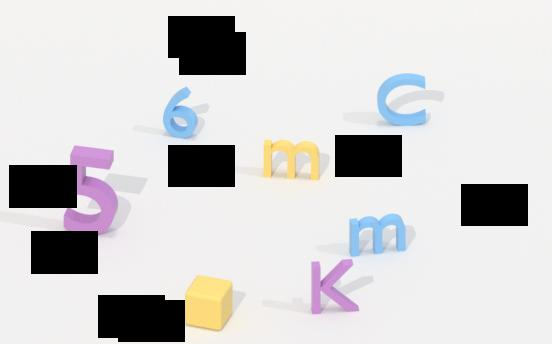5: (59, 146, 121, 239)
6: (160, 86, 204, 141)
c: (371, 73, 433, 126)
hop: (181, 273, 238, 333)
k: (309, 256, 361, 318)
m: (259, 137, 324, 184), (344, 213, 411, 257)
